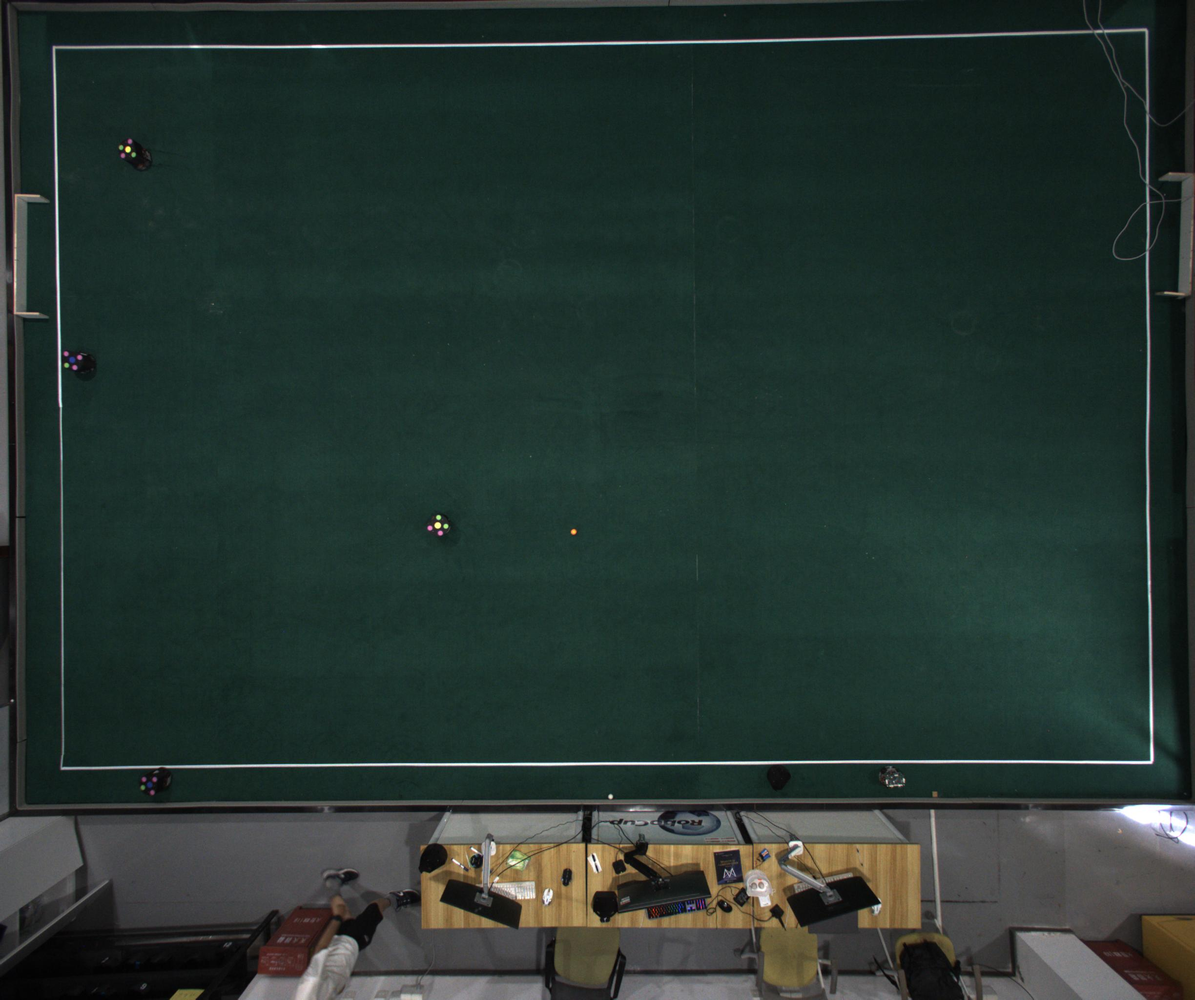ball: (570, 529, 577, 535)
blue_bot: (62, 349, 85, 374), (140, 775, 160, 796)
yellow_bot: (427, 513, 449, 537), (119, 139, 137, 160)
